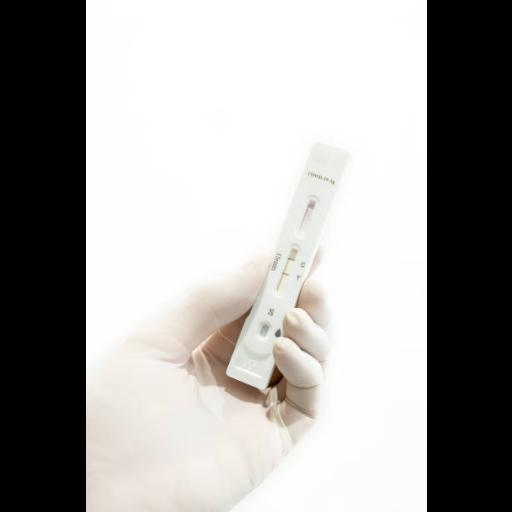Pos: (224, 142, 351, 393)
